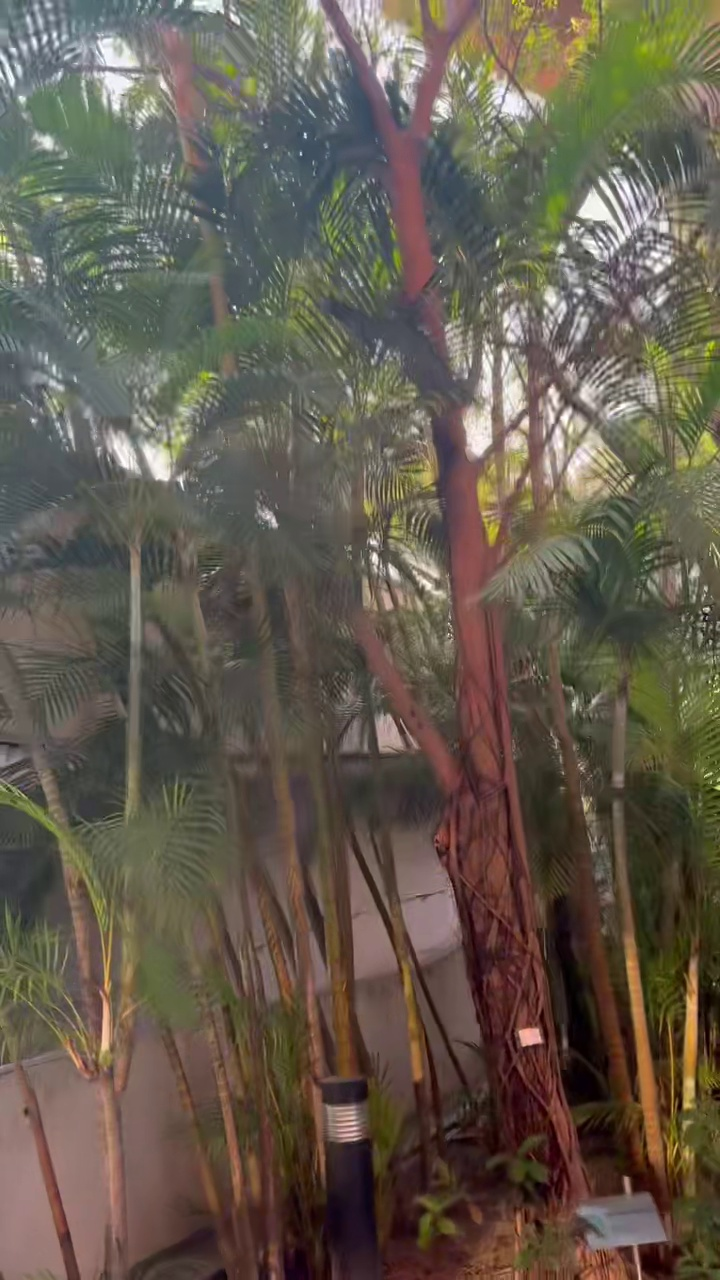Ficus benjamina: (320, 0, 587, 1208)
